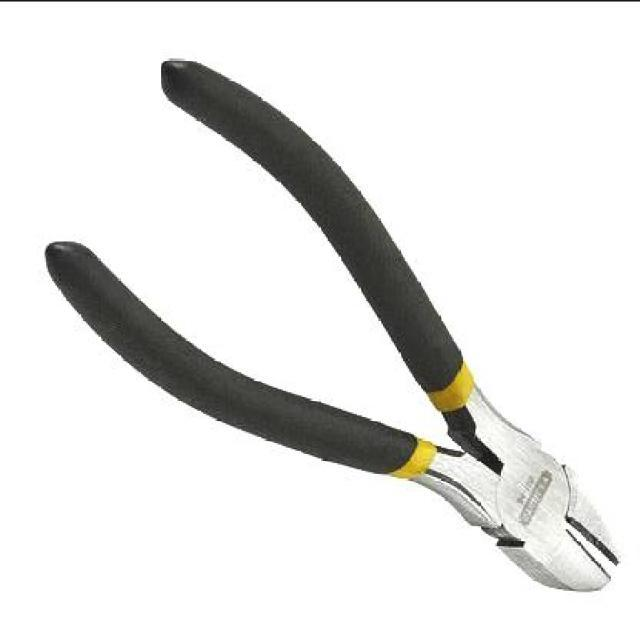pliers: (41, 56, 622, 607)
